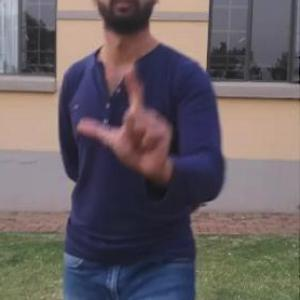land_hand: (73, 52, 186, 178)
